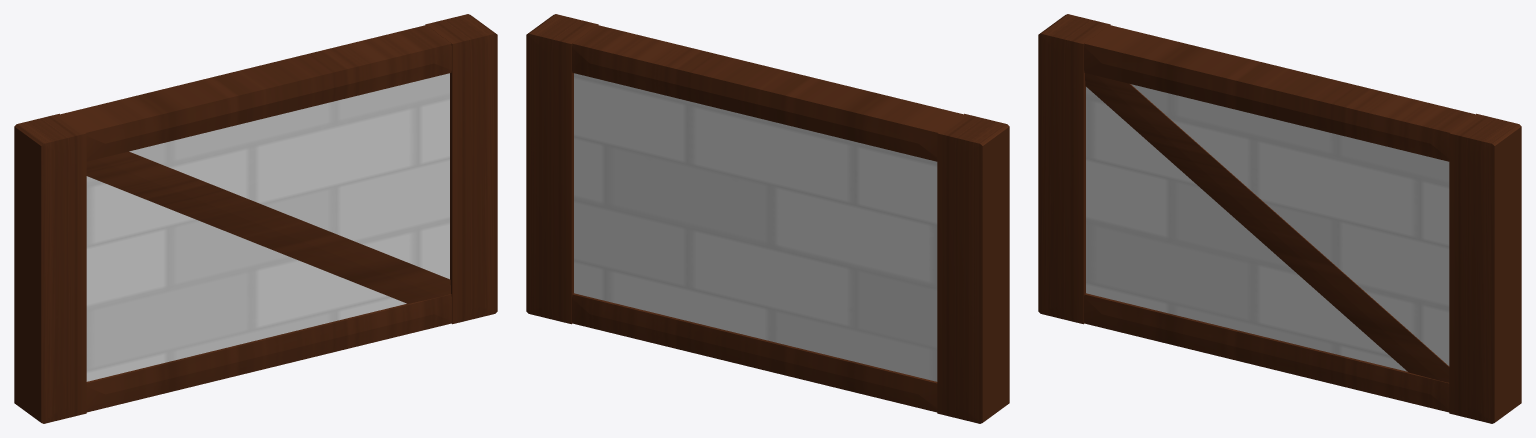
The model's file is Half_Wall_L_Slash_Brick.fbx.
3 renders of one model, left to right at view 1: azimuth 30°, elevation 25°; view 2: azimuth 150°, elevation 25°; view 3: azimuth 330°, elevation 25°, orthographic.
Visible parts, largest first — view 1: Half_Wall_L_Slash; view 2: Half_Wall_L_Slash; view 3: Half_Wall_L_Slash.
Part boxes in pixels (<box>): Half_Wall_L_Slash: <box>14,14,497,423</box>; Half_Wall_L_Slash: <box>526,14,1009,423</box>; Half_Wall_L_Slash: <box>1038,14,1521,423</box>.
Size of the model in its own units: 212 by 124 by 23.4.
